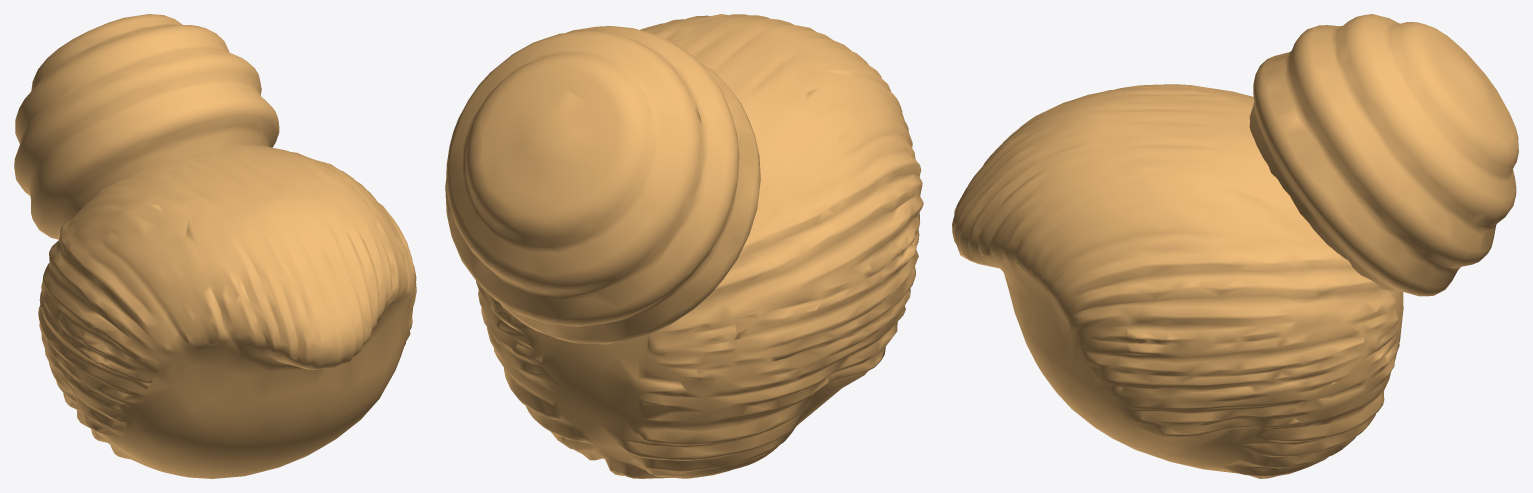
File: hair-003-a5e8b06f.glb
3 views of the same model, side by side, from view 1: azimuth 30°, elevation 25°; view 2: azimuth 150°, elevation 25°; view 3: azimuth 270°, elevation 25° (orthographic). The views are drawn at different scales.
Visible parts, largest first — view 1: Geo_Female_White_Hair.011; view 2: Geo_Female_White_Hair.011; view 3: Geo_Female_White_Hair.011.
Boxes of the visible parts, bbox=[...] form: Geo_Female_White_Hair.011: bbox=[14, 14, 416, 478]; Geo_Female_White_Hair.011: bbox=[445, 14, 923, 478]; Geo_Female_White_Hair.011: bbox=[952, 14, 1518, 478].
Size of the model in its own units: 1.69 by 2 by 2.39.
